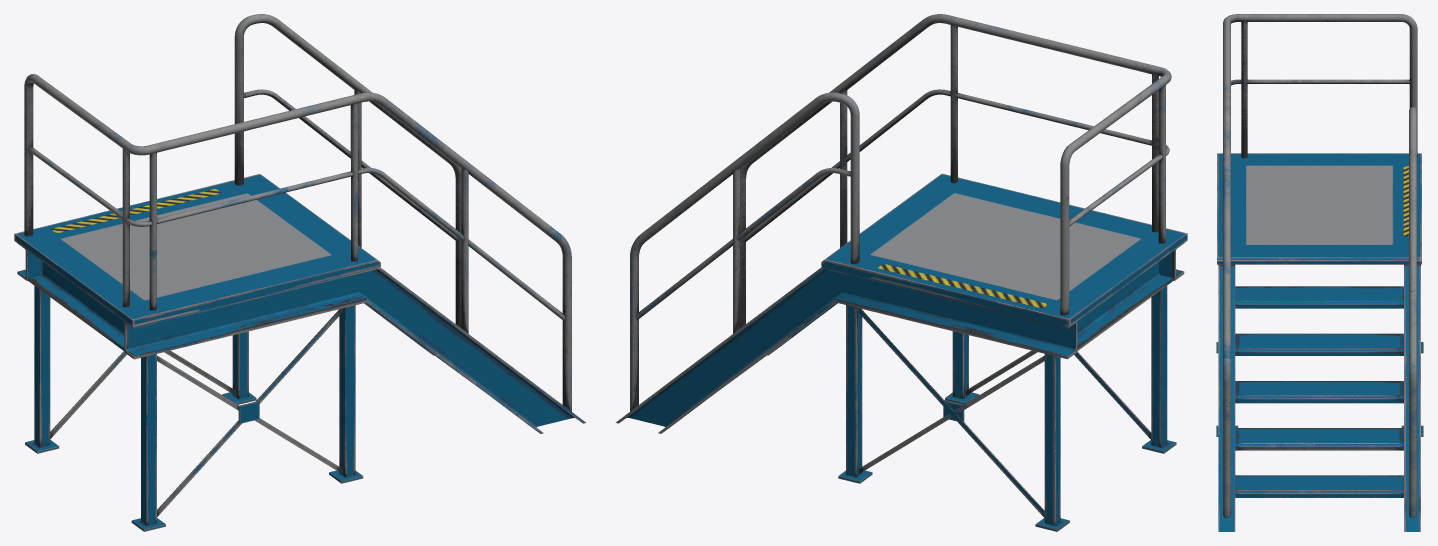
Rendered from SteelStair.fbx.
3 renders of one model, left to right at view 1: azimuth 30°, elevation 25°; view 2: azimuth 150°, elevation 25°; view 3: azimuth 270°, elevation 25°, orthographic. The views are drawn at different scales.
Visible parts, largest first — view 1: SteelStair2; view 2: SteelStair2; view 3: SteelStair2.
Boxes of the visible parts, x1,y1,x2,y2 form: SteelStair2: [14, 14, 585, 531]; SteelStair2: [615, 14, 1187, 531]; SteelStair2: [1216, 14, 1423, 531].
Size of the model in its own units: 287 by 229 by 130.
